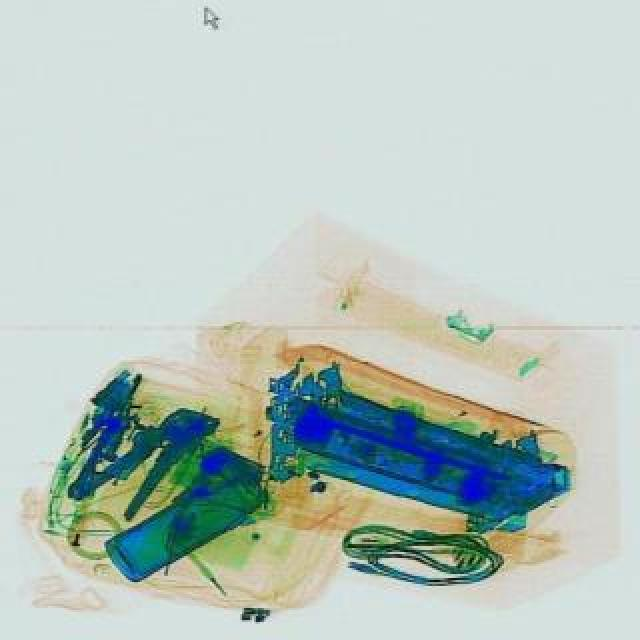wrench: (62, 382, 220, 534)
